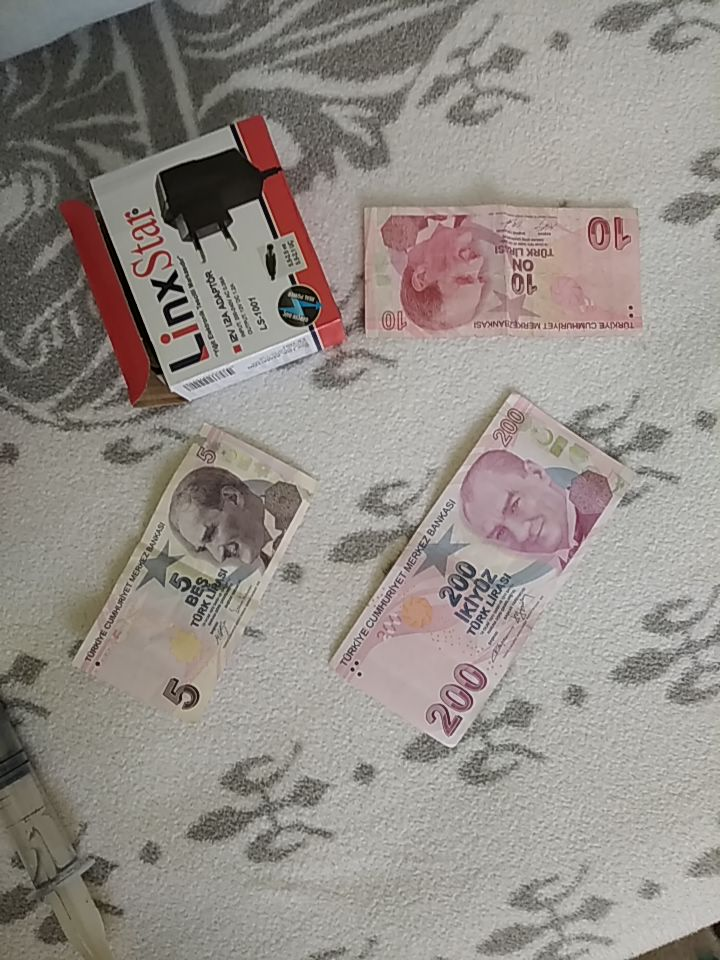200TL: (326, 389, 635, 749)
5TL: (71, 421, 317, 723)
